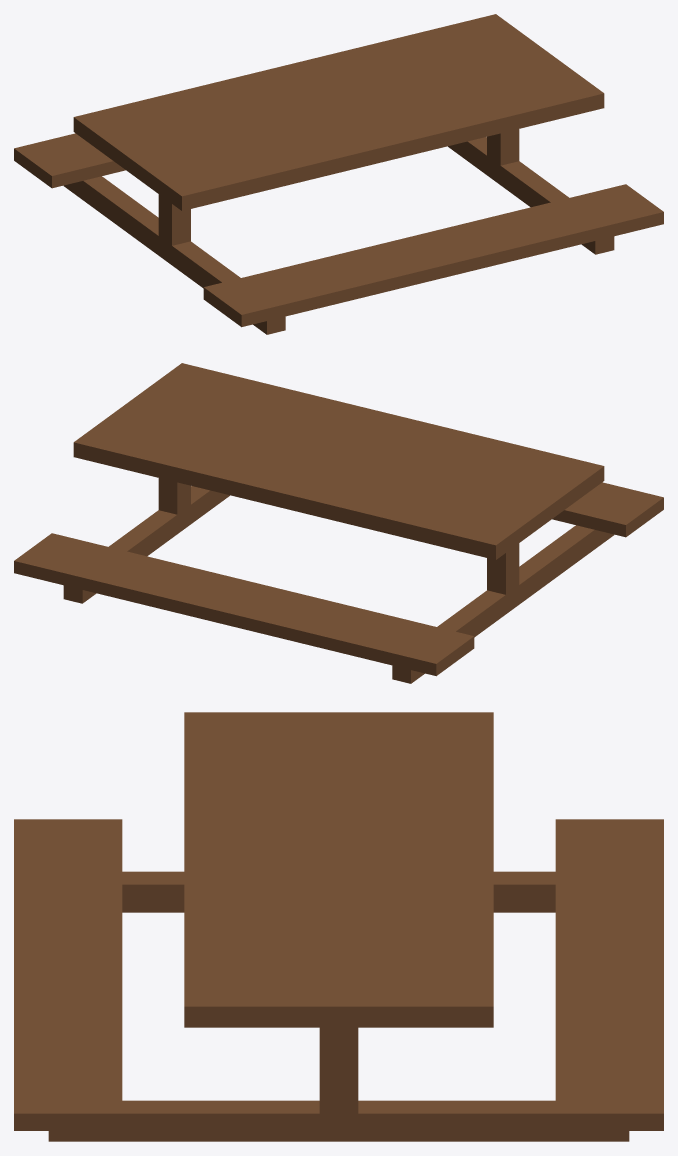
Rendered from picnic_table.glb.
3 renders of one model, top to bottom at view 1: azimuth 30°, elevation 25°; view 2: azimuth 150°, elevation 25°; view 3: azimuth 270°, elevation 25°, orthographic. The views are drawn at different scales.
Parts seen in each view (by area): view 1: picnic_table_Body; view 2: picnic_table_Body; view 3: picnic_table_Body.
Part boxes in pixels (<box>): picnic_table_Body: <box>14,14,663,334</box>; picnic_table_Body: <box>14,363,663,683</box>; picnic_table_Body: <box>14,712,663,1141</box>.
Size of the model in its own units: 1.8 by 0.46 by 1.68.
